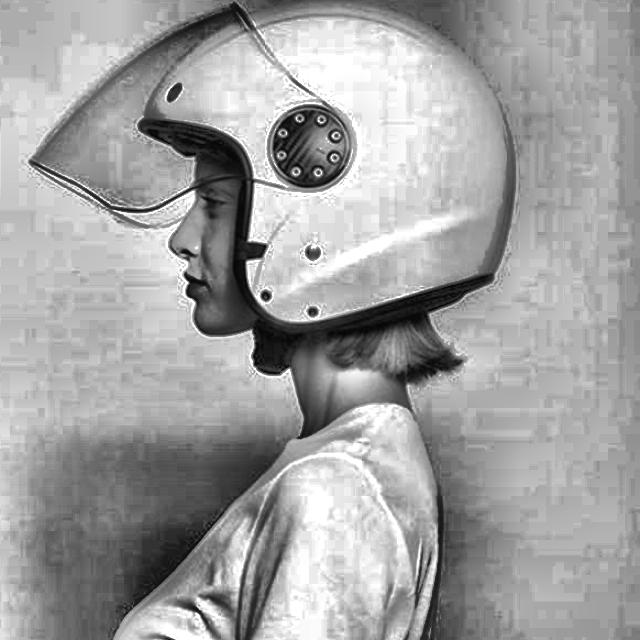Helmet: (19, 0, 528, 384)
